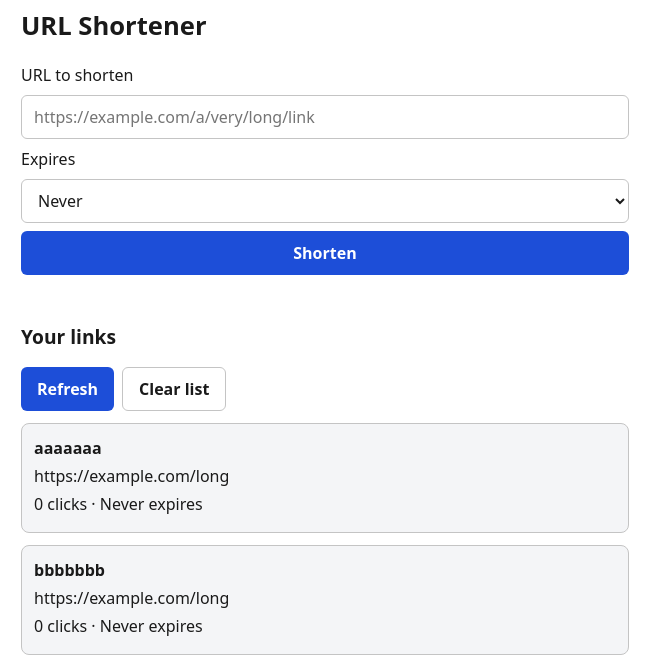
App › refresh updates stats; a 404 for one link does not break the others
Click the button "Refresh": (68, 389) [21,367,114,411]
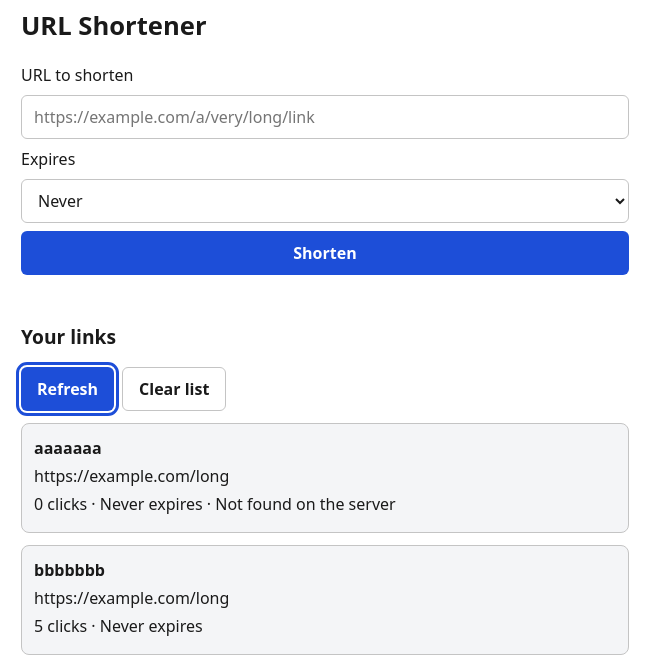
expect the text "5 clicks · Never expires" is shown: met, box [34,615,203,637]
expect the text "0 clicks · Never expires · Not found on the server" is shown: met, box [34,493,396,515]
